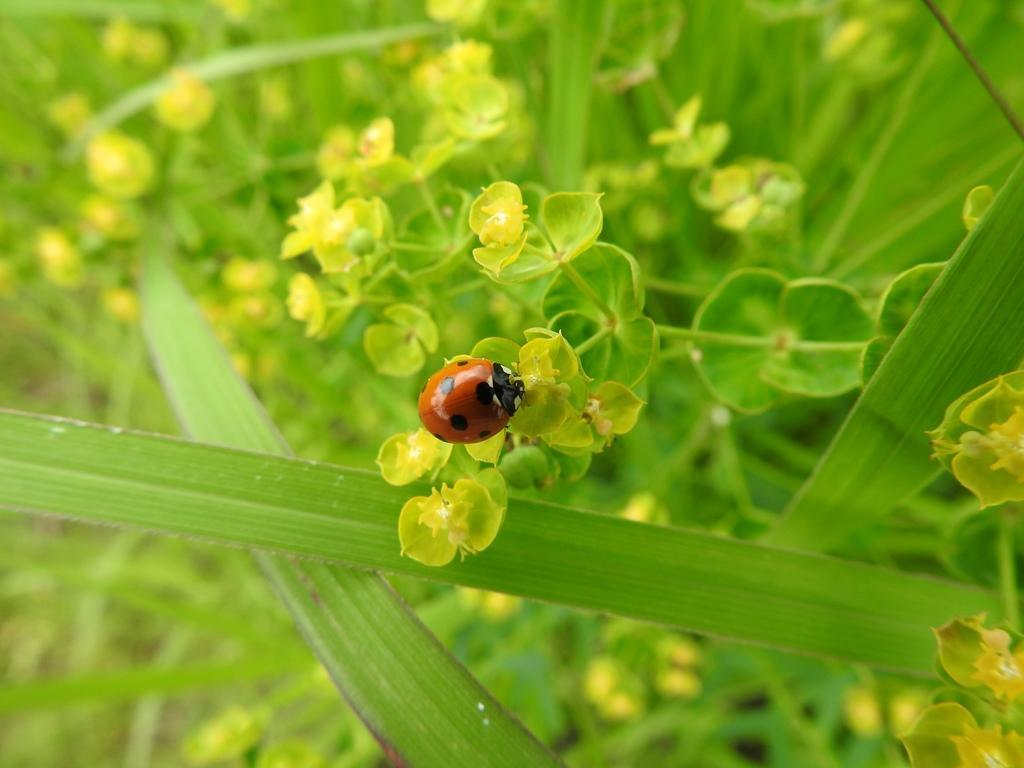ladybug: (417, 357, 531, 447)
